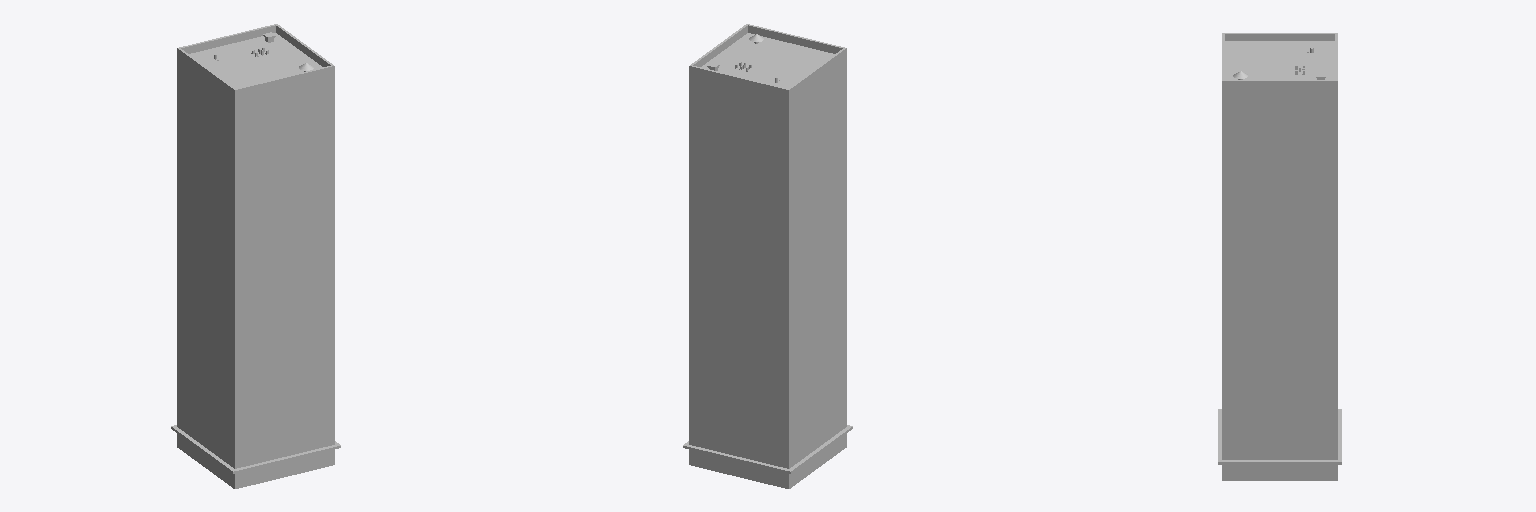
Rendered from budynek3.obj.
The picture shows the model from 3 angles: view 1: azimuth 30°, elevation 25°; view 2: azimuth 150°, elevation 25°; view 3: azimuth 270°, elevation 25°; orthographic projection.
Visible parts, largest first — view 1: Highrise3_Cube.012; view 2: Highrise3_Cube.012; view 3: Highrise3_Cube.012.
Part boxes in pixels (left/top/right/bottom): Highrise3_Cube.012: left=171, top=24, right=340, bottom=488; Highrise3_Cube.012: left=683, top=24, right=852, bottom=488; Highrise3_Cube.012: left=1218, top=33, right=1341, bottom=480.
Bounding box in the file's own units: 2.16 × 7.66 × 2.16.